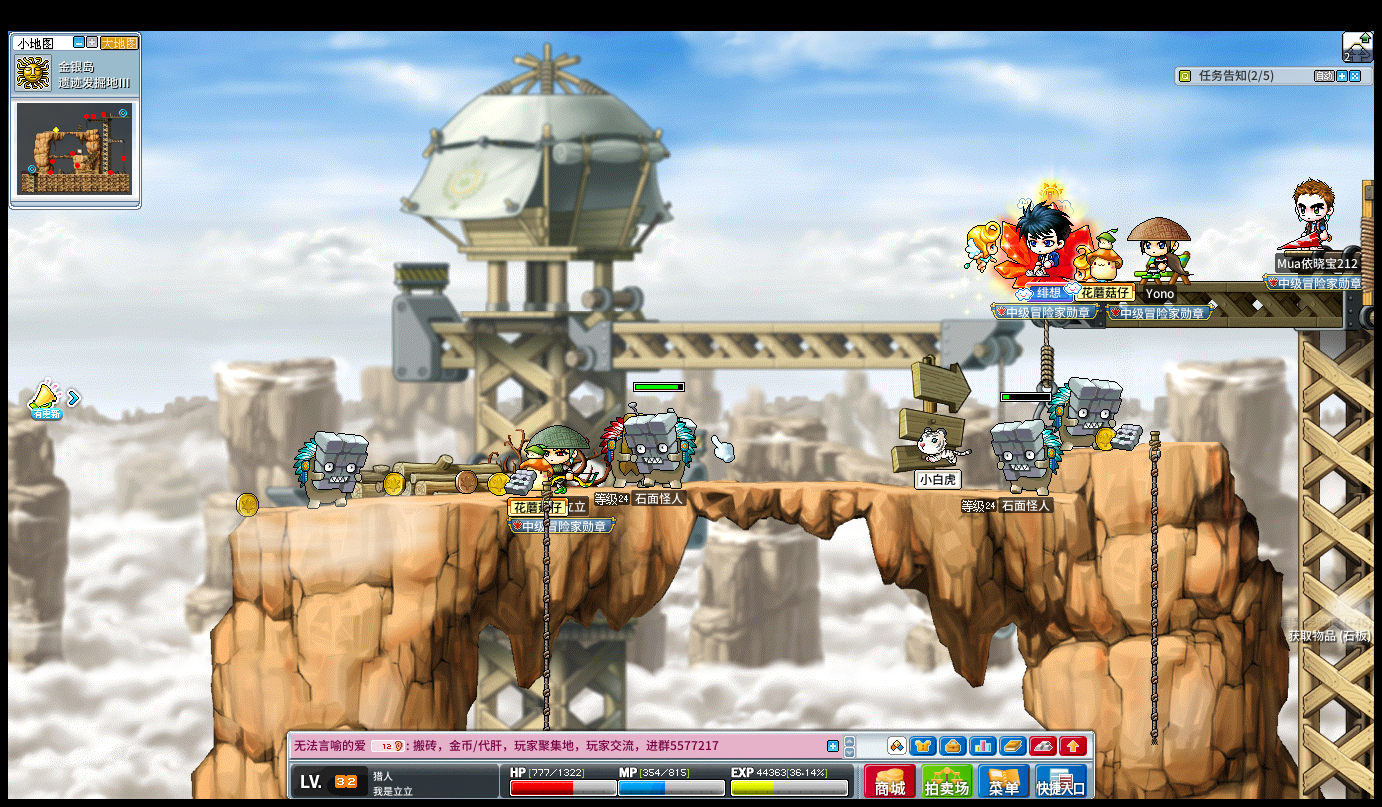floor: (235, 477, 1117, 502), (1072, 437, 1225, 454)
monster: (292, 430, 368, 511), (625, 411, 698, 486), (989, 419, 1062, 492), (1050, 376, 1120, 450)
rope: (1145, 428, 1161, 752), (539, 484, 551, 687)
